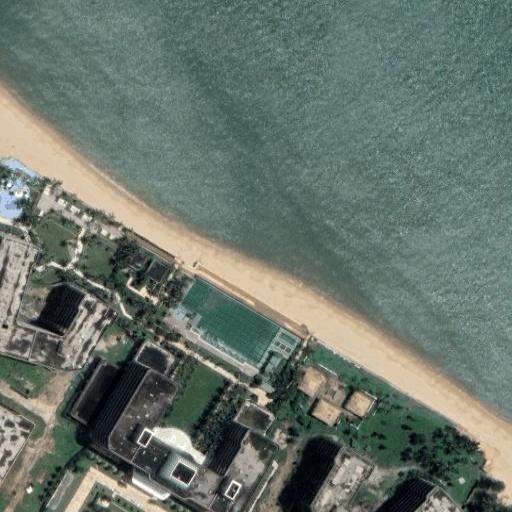building: (89, 357, 265, 512), (291, 438, 355, 512), (63, 351, 119, 425), (379, 475, 453, 512), (295, 368, 326, 399), (136, 254, 167, 285), (308, 397, 340, 427), (344, 388, 374, 419)
